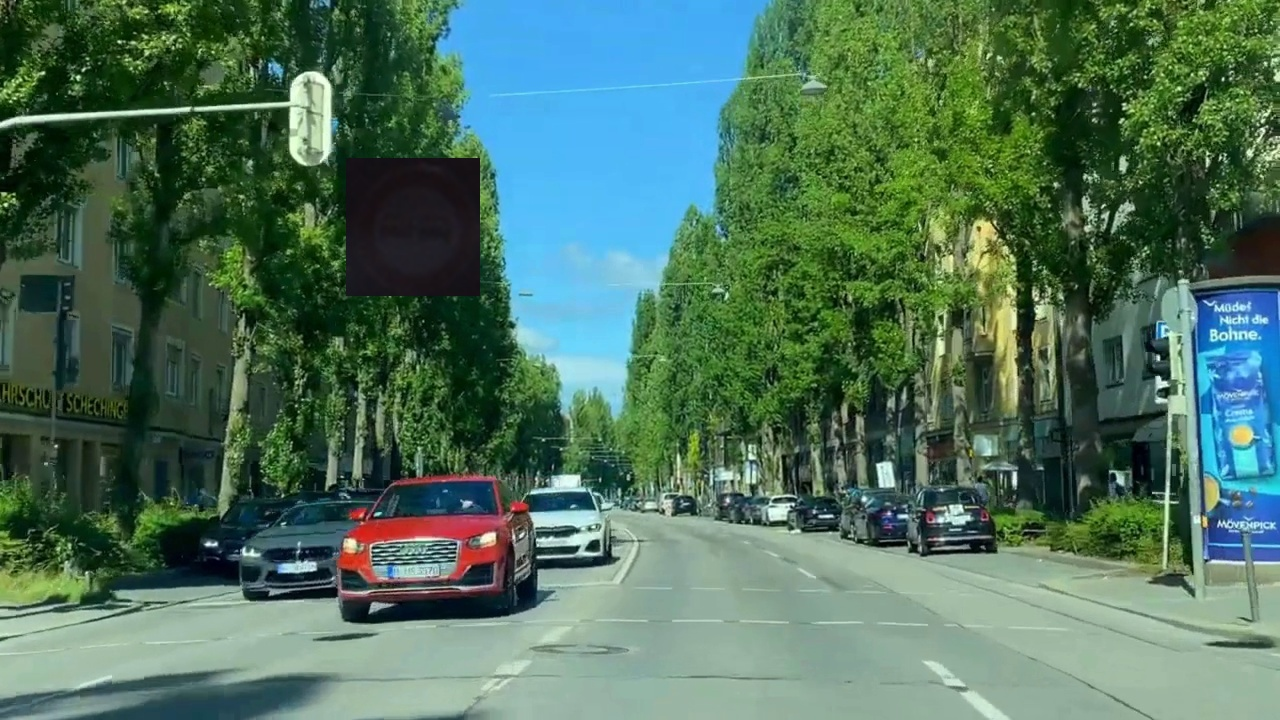No passing: (346, 158, 480, 296)
